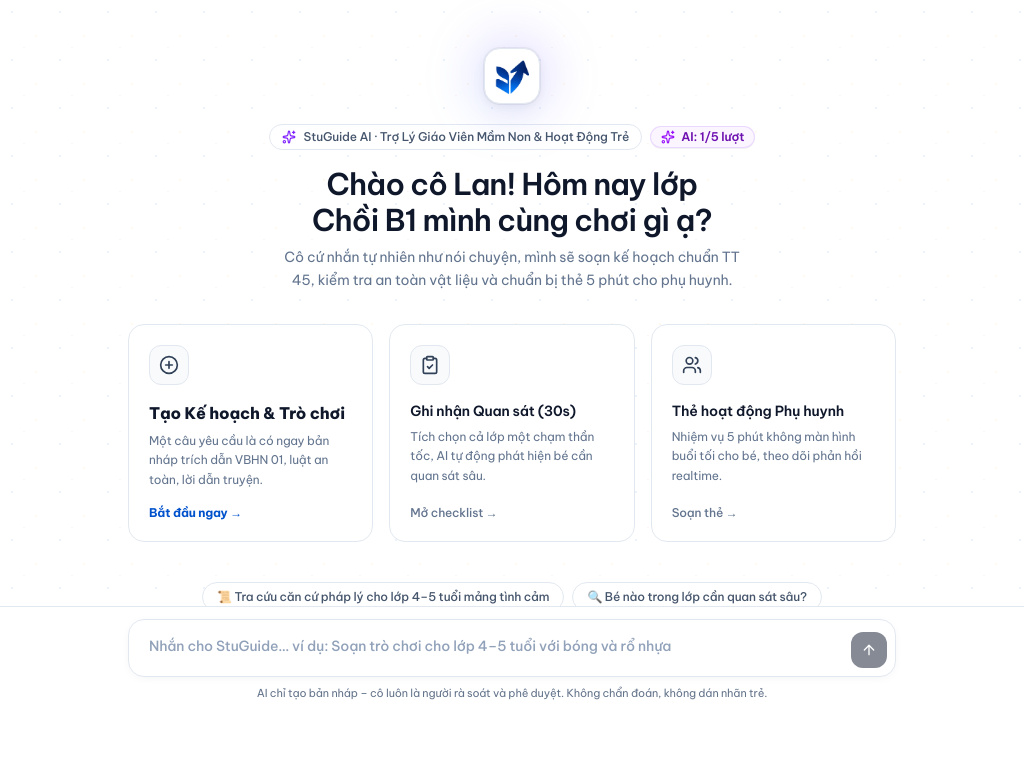
ChatWorkspace – thông báo lỗi khi gửi tin › 429 do bấm quá nhanh: hiện đúng lời server, vẫn cho gửi lại, không khóa ô nhập
This screenshot has width=1024, height=768.
Step 1. Type "Soạn trò chơi vận động" into the text box labelled "Nhắn cho StuGuide" → (490, 648), box [137,628,843,668]
Then press Enter
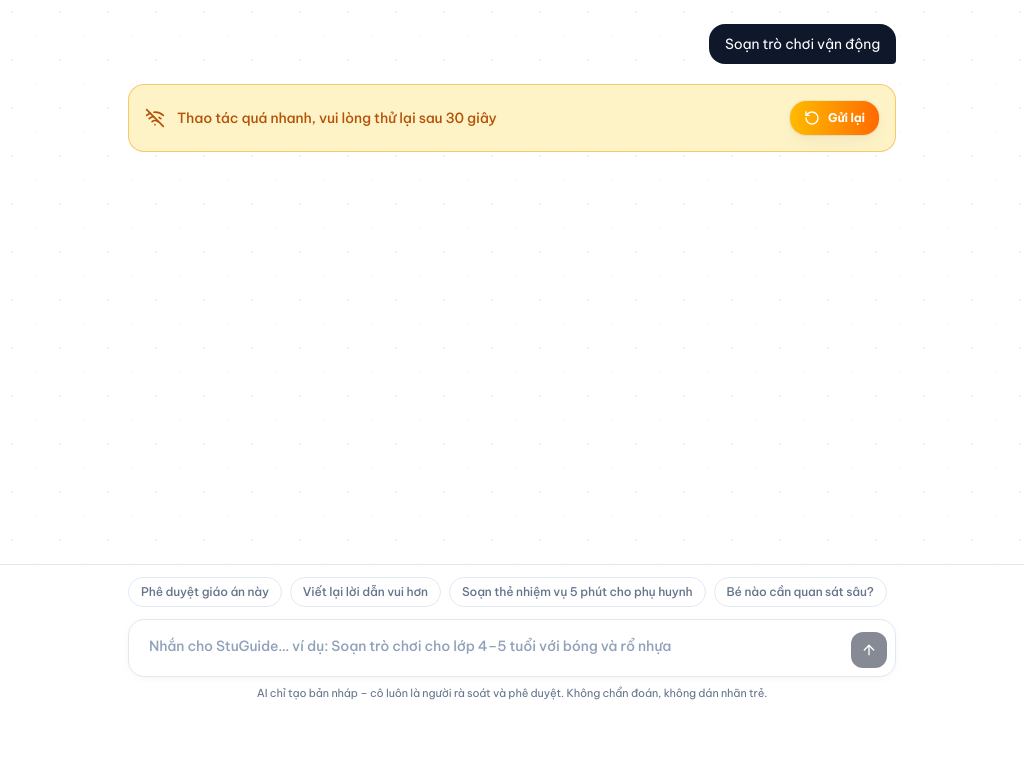
Result: the message shows "Thao tác quá nhanh, vui lòng thử lại sau 30 giây" at [177,109,497,127]
Result: the button "Gửi lại" is shown at [790,101,879,135]
